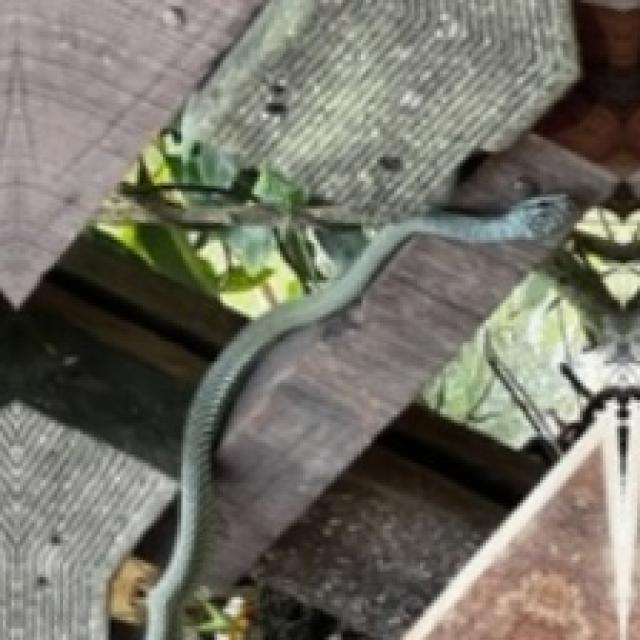paradise tree snake: (146, 195, 574, 639)
